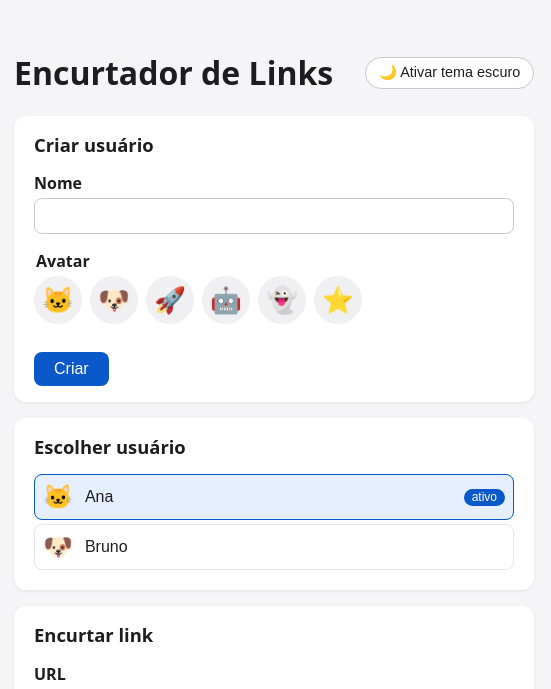
Scenario: tela de histórico › trocar de usuário troca a lista
This screenshot has width=551, height=689.
What coordinates should you click on to do the following:
click the button "🐶 Bruno"
I would click on:
 (106, 547)
Its box is [34,524,514,570].
(page scrolled)
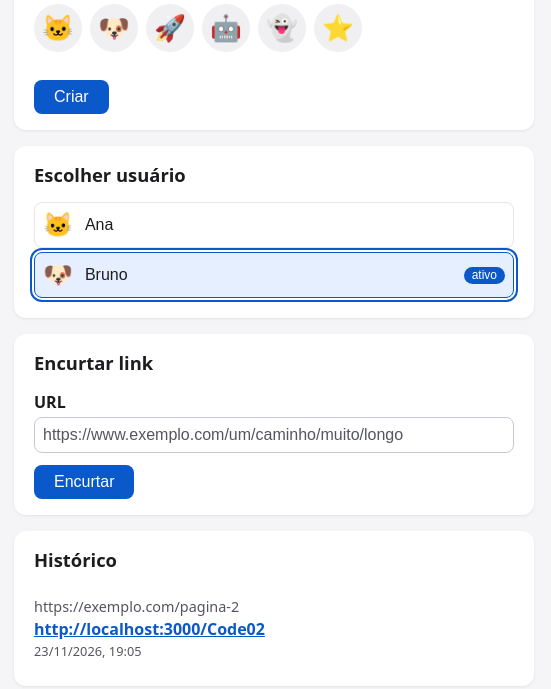
Expected: the text "https://exemplo.com/pagina-2" is shown, [34,596,239,616]
